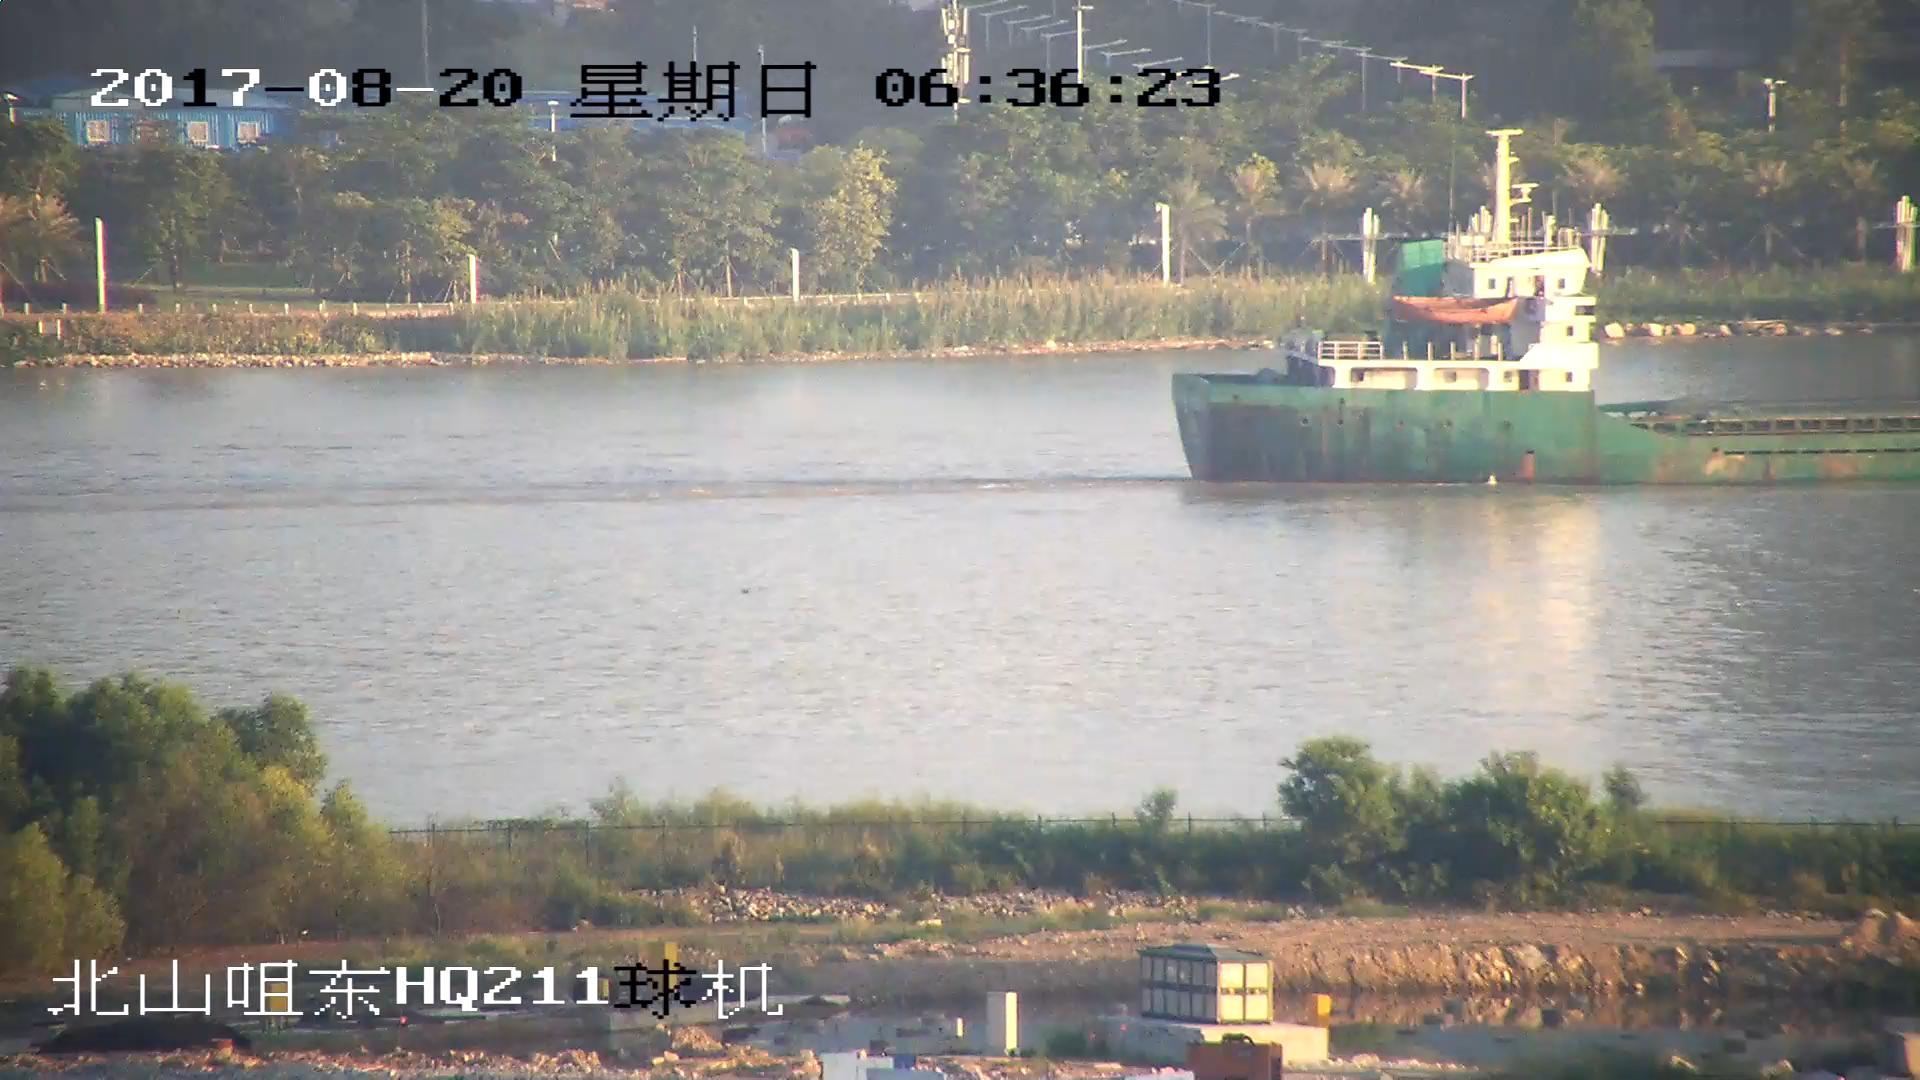general cargo ship: (1189, 132, 1920, 481)
